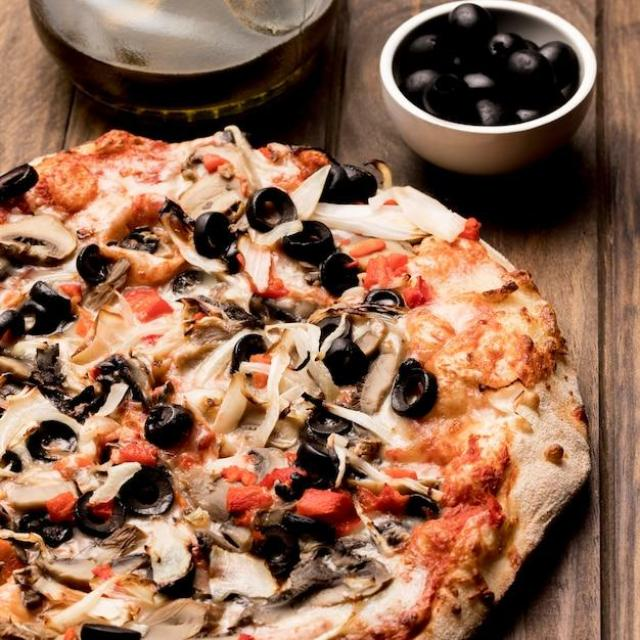olive: (298, 395, 388, 460), (282, 440, 358, 503), (116, 466, 178, 521), (5, 503, 76, 549), (324, 333, 372, 393), (246, 526, 298, 579), (412, 66, 463, 119), (24, 419, 81, 465), (68, 492, 121, 540), (392, 360, 438, 411), (144, 400, 192, 448), (284, 218, 334, 263), (0, 158, 42, 209), (326, 164, 380, 203), (25, 282, 79, 319), (406, 29, 449, 75), (453, 4, 494, 52), (248, 184, 292, 228), (196, 210, 234, 260), (544, 43, 579, 97), (453, 65, 508, 97), (0, 308, 54, 340), (225, 332, 271, 369), (76, 240, 108, 290), (468, 101, 520, 131), (402, 491, 446, 526), (489, 29, 538, 60), (80, 619, 152, 640), (514, 57, 554, 94), (504, 94, 560, 120), (65, 337, 108, 364), (0, 456, 33, 479), (167, 202, 192, 223)
pizza: (0, 131, 595, 640)
